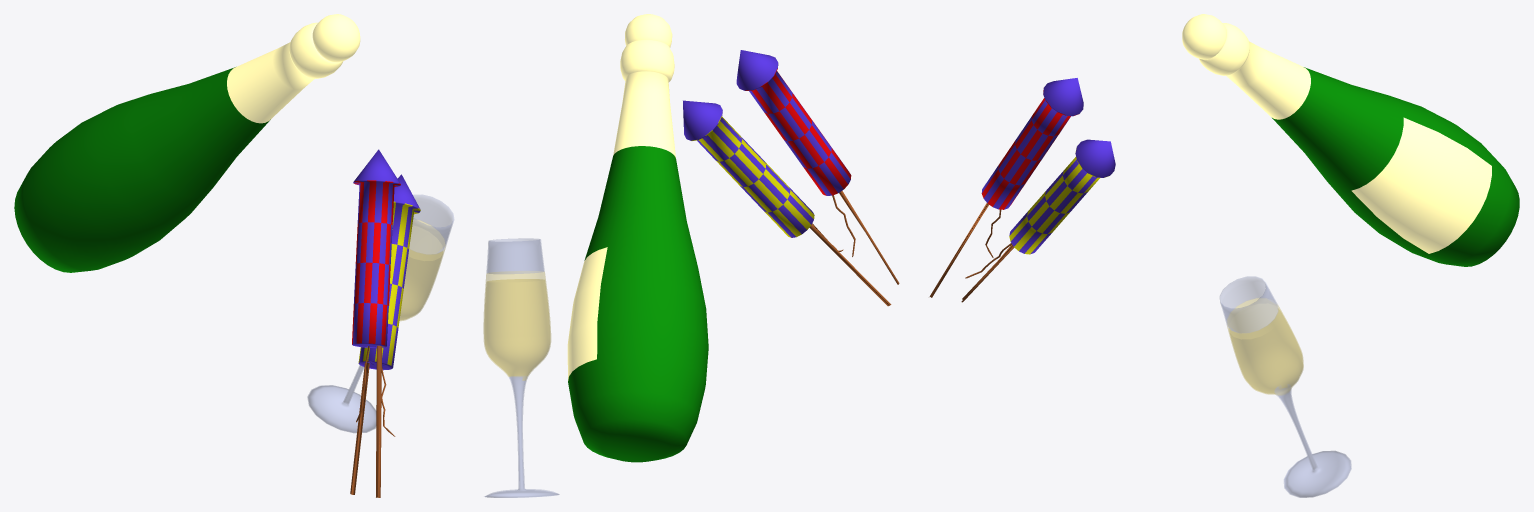
Rendered from new-asset.glb.
3 renders of one model, left to right at view 1: azimuth 30°, elevation 25°; view 2: azimuth 150°, elevation 25°; view 3: azimuth 270°, elevation 25°, orthographic. The views are drawn at different scales.
Parts seen in each view (by area): view 1: Cylinder, Cylinder.008, Line.001; view 2: Cylinder, Cylinder.008, Line.001; view 3: Cylinder, Cylinder.008, Line.001.
Boxes of the visible parts, bbox=[...] form: Cylinder: bbox=[14, 14, 360, 272]; Cylinder.008: bbox=[350, 149, 420, 497]; Line.001: bbox=[307, 194, 454, 432]; Cylinder: bbox=[567, 14, 708, 462]; Cylinder.008: bbox=[683, 50, 899, 306]; Line.001: bbox=[483, 238, 559, 497]; Cylinder: bbox=[1182, 14, 1519, 266]; Cylinder.008: bbox=[929, 78, 1115, 302]; Line.001: bbox=[1220, 276, 1351, 497].
Bounding box in the file's own units: 6.43 × 9.16 × 11.18.
